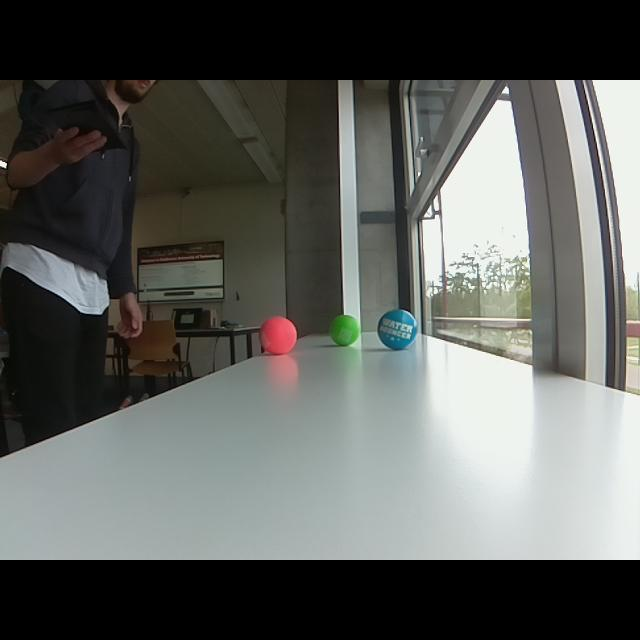ball: (258, 314, 300, 357), (328, 312, 362, 350)
